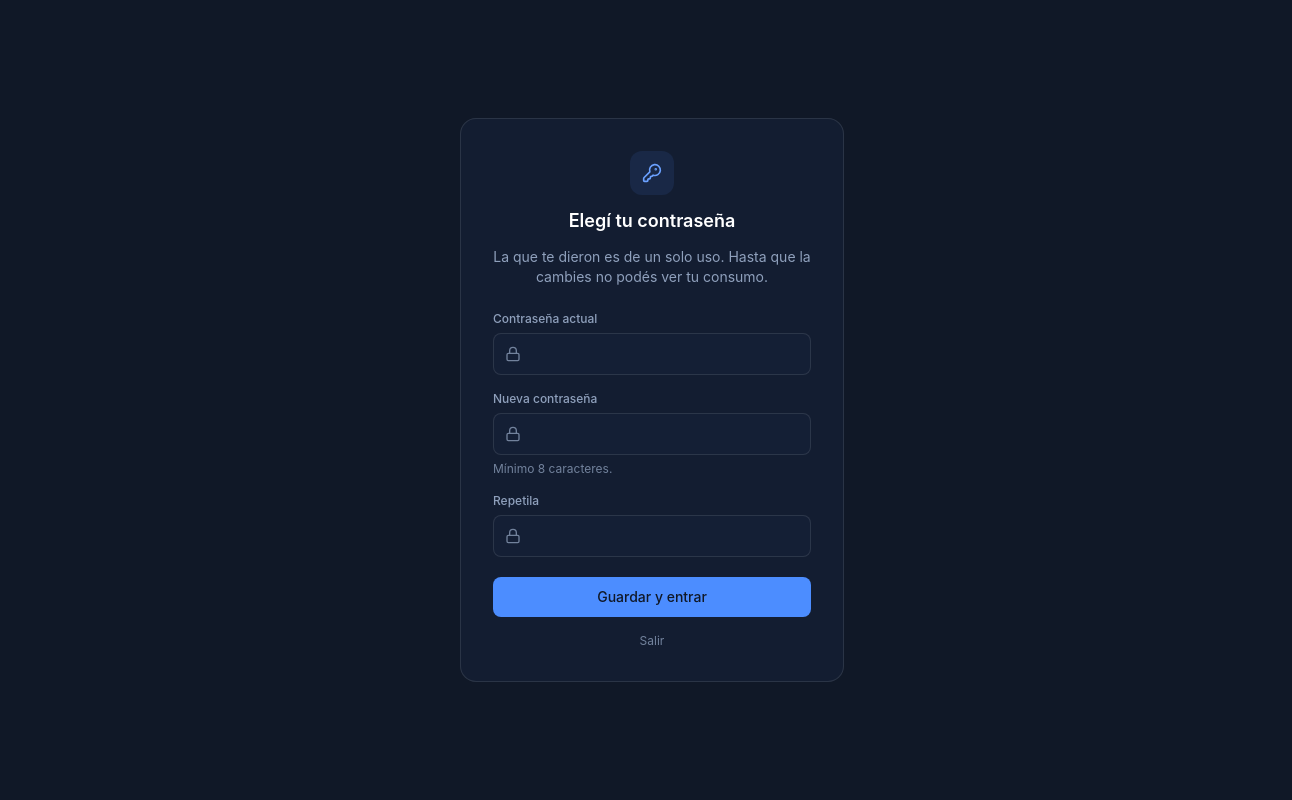
Test: después de elegir la contraseña › si el guardado falla tampoco se va
This screenshot has width=1292, height=800.
Type "la-de-un-solo-uso" into the password field labelled "Contraseña actual" at (652, 354), box x1=493 y1=333 x2=811 y2=375
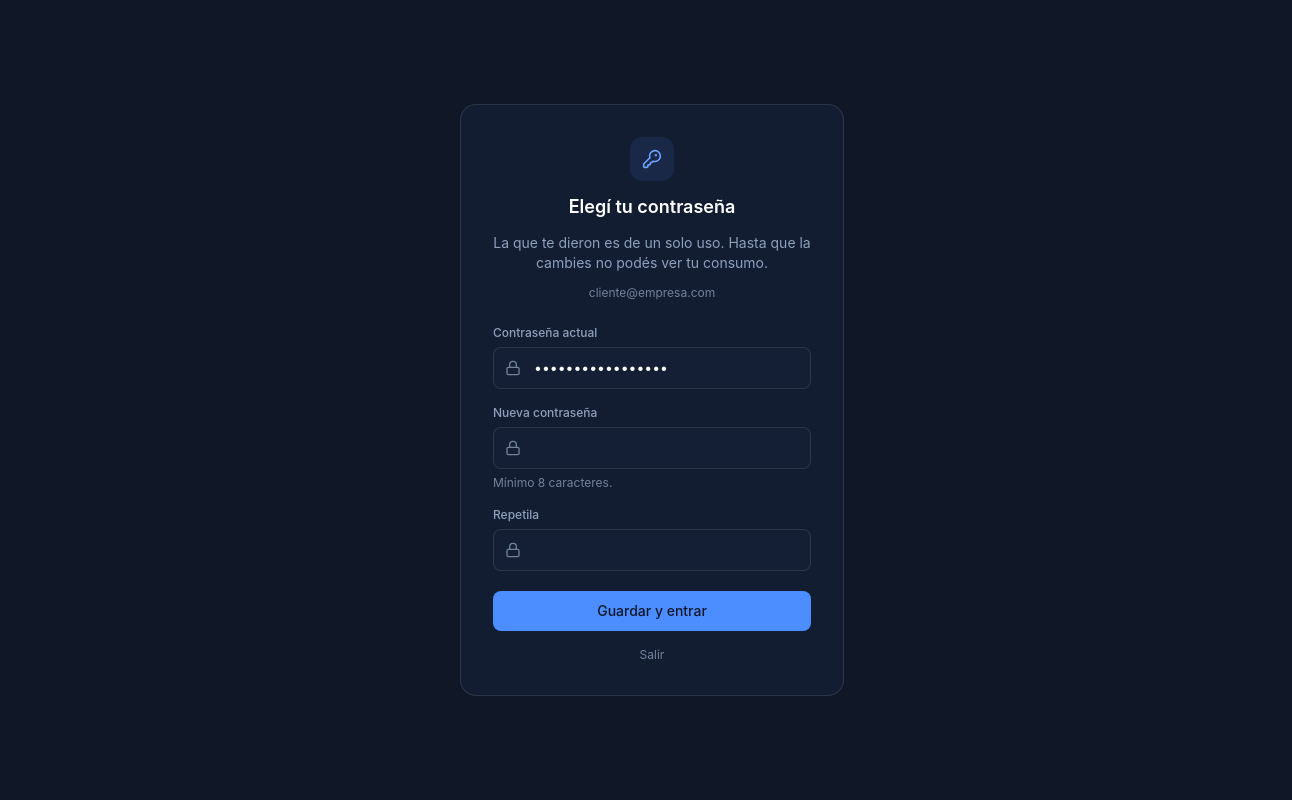
Type "una-contraseña-mia" into the password field labelled "Nueva contraseña" at (652, 448), box x1=493 y1=427 x2=811 y2=469
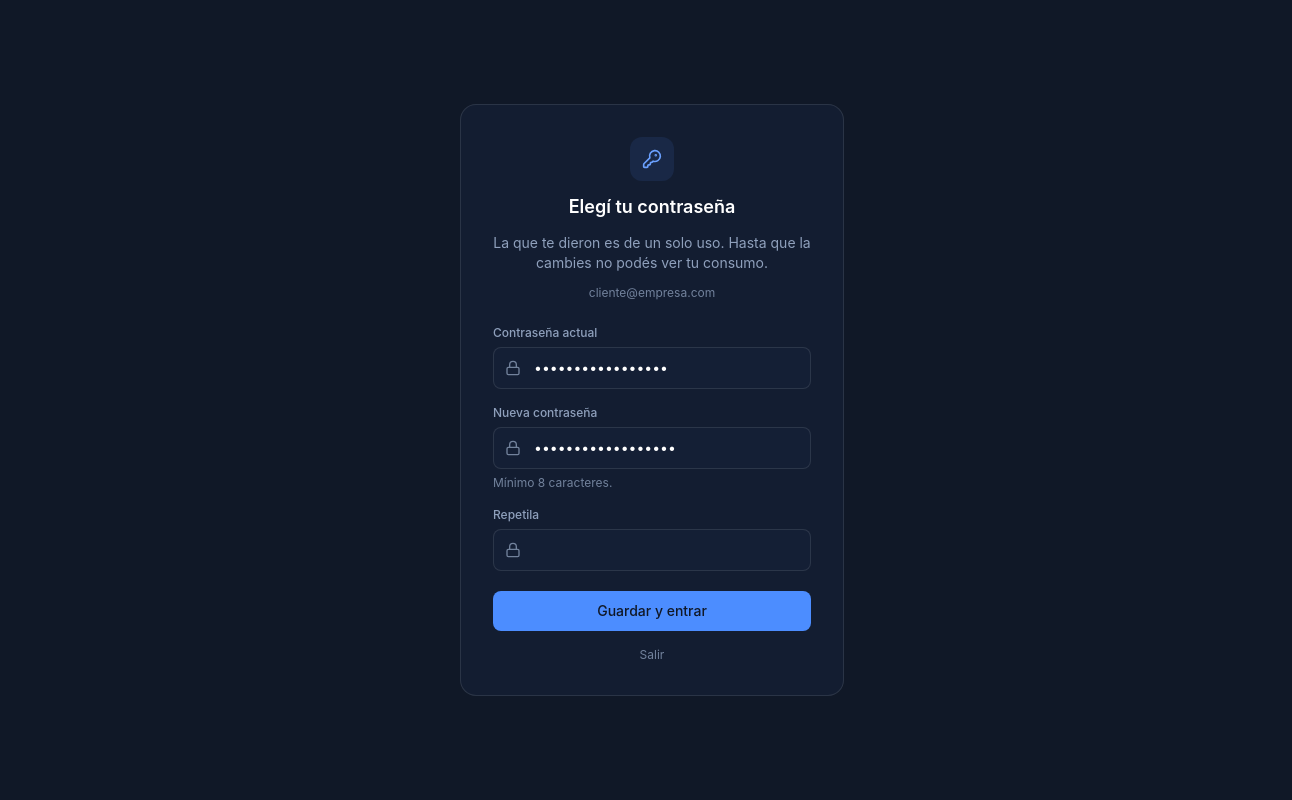
Type "una-contraseña-mia" into the password field labelled "Repetila" at (652, 550), box x1=493 y1=529 x2=811 y2=571
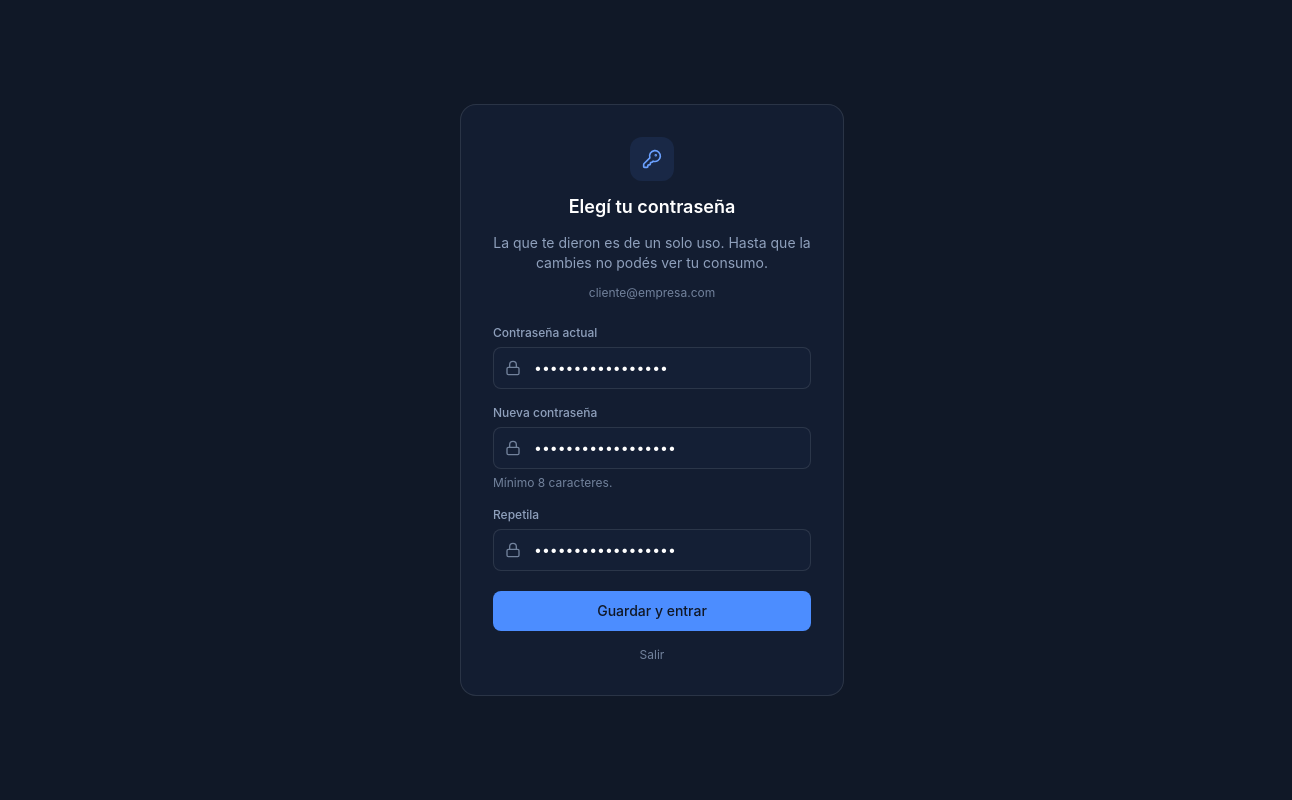
Click the button "Guardar y entrar" at (652, 611), box x1=493 y1=591 x2=811 y2=631
(page scrolled)
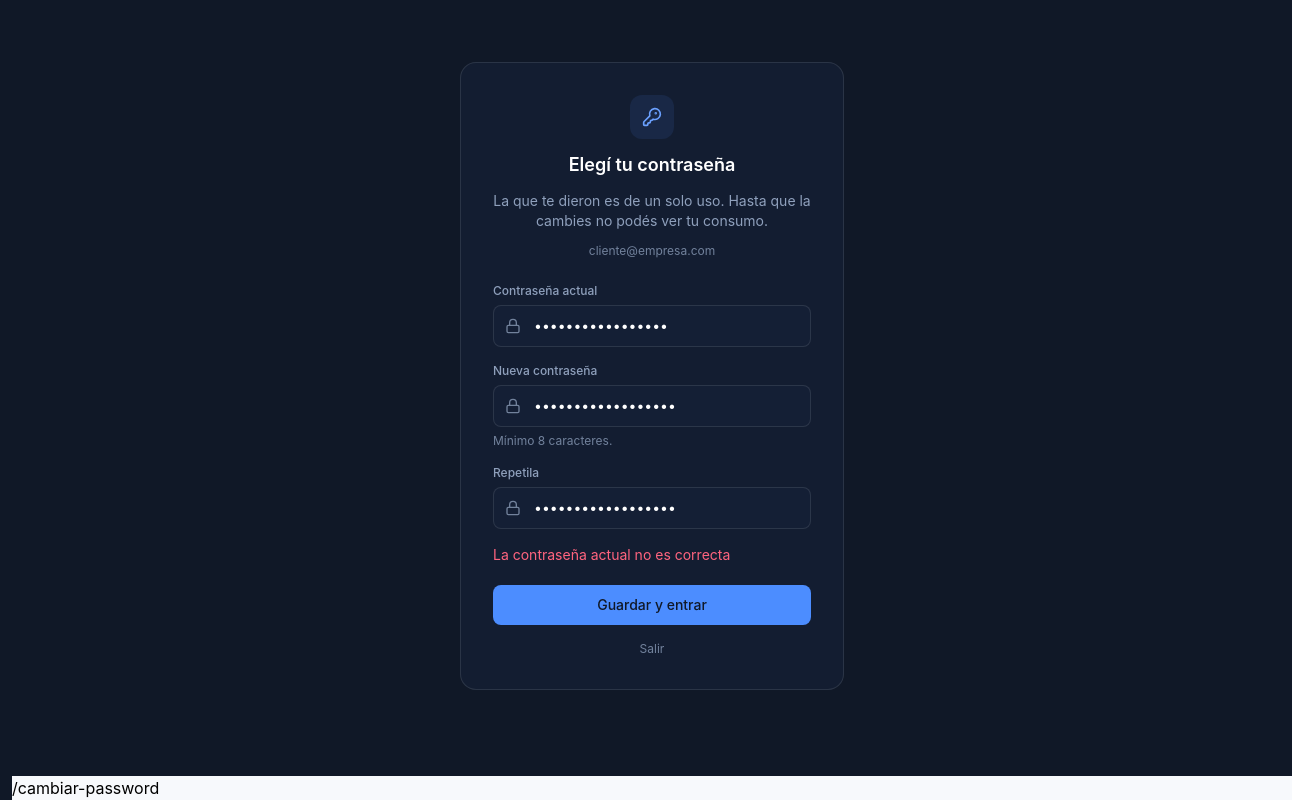
Check: the text with test id "ubicacion" reads "/cambiar-password", box x1=12 y1=778 x2=159 y2=798
Check: the message "La contraseña actual no es correcta" is shown, box x1=493 y1=546 x2=730 y2=563
